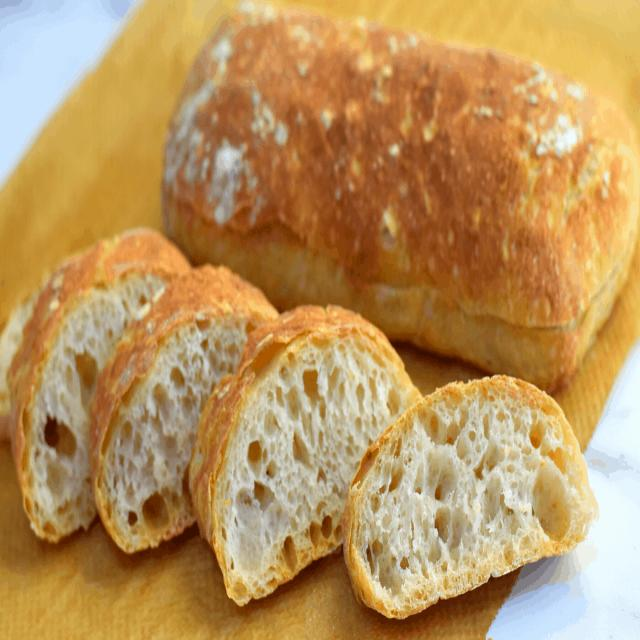Ciabatta: (162, 4, 640, 392)
